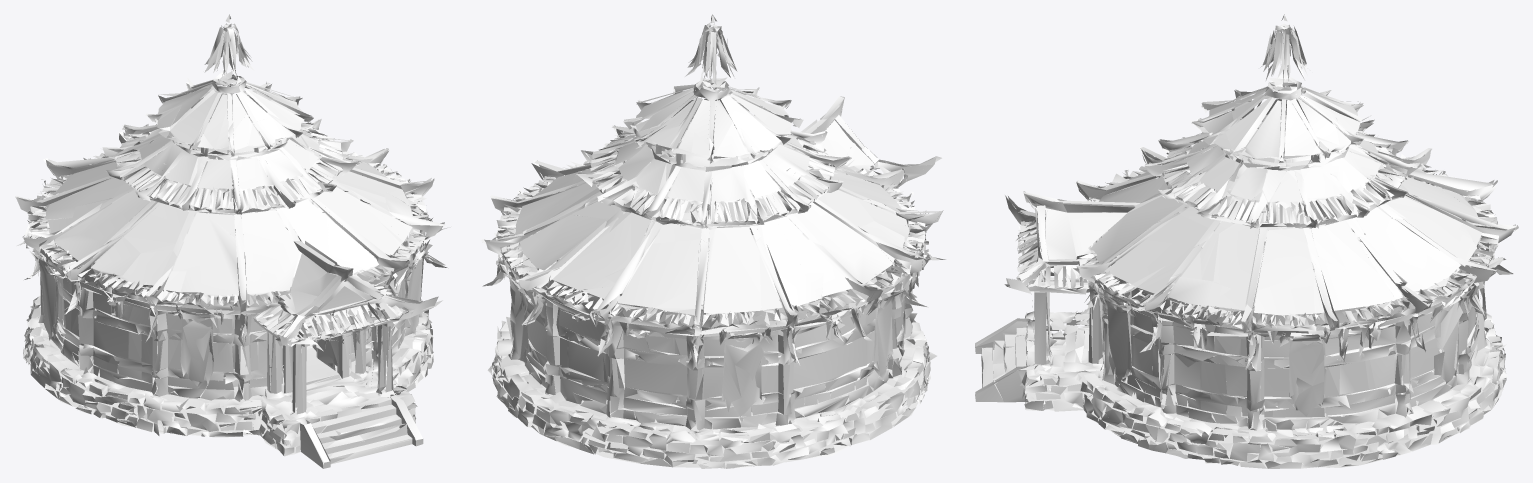
Rendered from khan_palace_lod1.glb.
The picture shows the model from 3 angles, left to right: view 1: azimuth 30°, elevation 25°; view 2: azimuth 150°, elevation 25°; view 3: azimuth 270°, elevation 25°; orthographic projection. The views are drawn at different scales.
Visible parts, largest first — view 1: khan_palace; view 2: khan_palace; view 3: khan_palace.
Part boxes in pixels (bbox=[...]): khan_palace: bbox=[15, 14, 450, 468]; khan_palace: bbox=[481, 14, 945, 468]; khan_palace: bbox=[975, 14, 1518, 468].
Size of the model in its own units: 25.3 by 22.18 by 29.92.
Materials: 1 (1 with a texture image).
